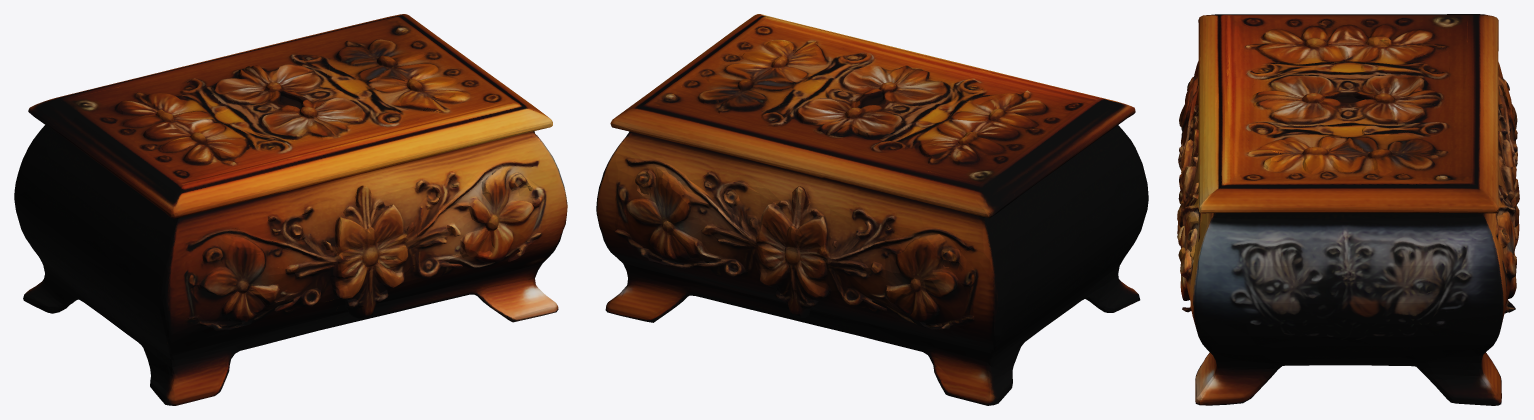
File: wooden-music-box-vintage.jpeg.glb
3 views of the same model, side by side, from view 1: azimuth 30°, elevation 25°; view 2: azimuth 150°, elevation 25°; view 3: azimuth 270°, elevation 25° (orthographic). The views are drawn at different scales.
Visible parts, largest first — view 1: world; view 2: world; view 3: world.
Boxes of the visible parts, left/top/right/bottom form: world: left=14, top=14, right=567, bottom=405; world: left=596, top=14, right=1148, bottom=405; world: left=1177, top=14, right=1519, bottom=405.
Size of the model in its own units: 0.9991 by 0.4928 by 0.7103.
1 material, 1 textured.
